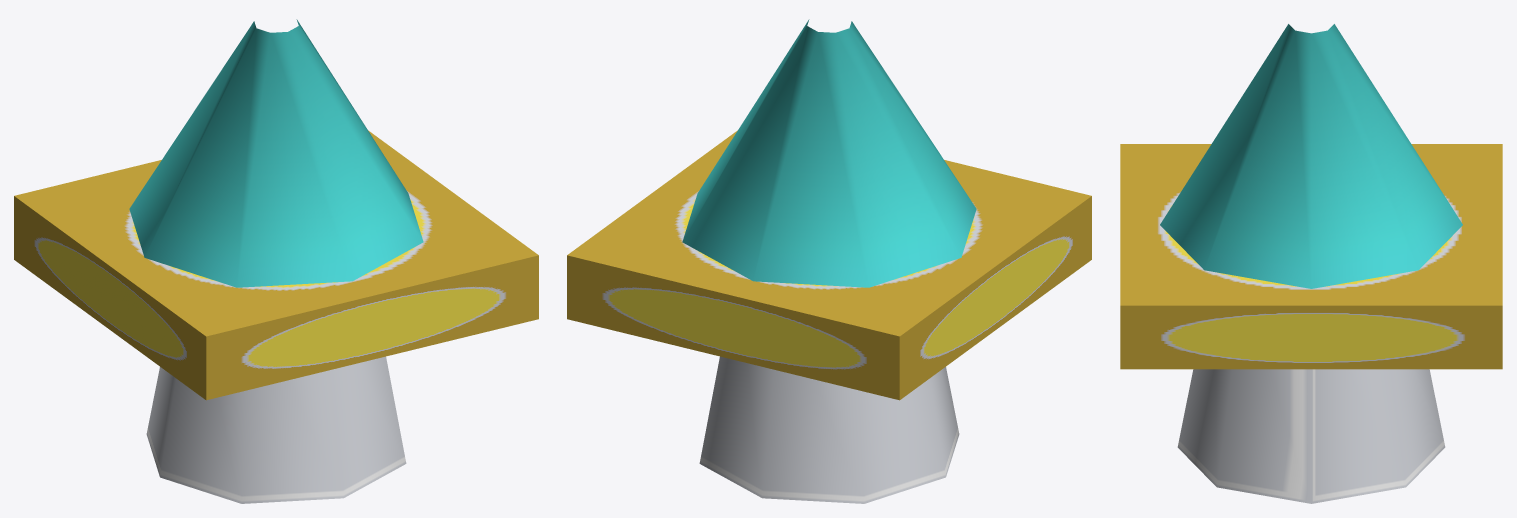
Rendered from ITEM_HEART_OF_MIRRORS.glb.
The picture shows the model from 3 angles, left to right: view 1: azimuth 30°, elevation 25°; view 2: azimuth 150°, elevation 25°; view 3: azimuth 270°, elevation 25°; orthographic projection.
Parts seen in each view (by area): view 1: ITEM_HEART_OF_MIRRORS; view 2: ITEM_HEART_OF_MIRRORS; view 3: ITEM_HEART_OF_MIRRORS.
Part boxes in pixels (<box>): ITEM_HEART_OF_MIRRORS: <box>14,19,538,503</box>; ITEM_HEART_OF_MIRRORS: <box>567,19,1091,503</box>; ITEM_HEART_OF_MIRRORS: <box>1120,24,1502,503</box>.
Size of the model in its own units: 0.45 by 0.55 by 0.45.
Materials: 1 (1 with a texture image).
